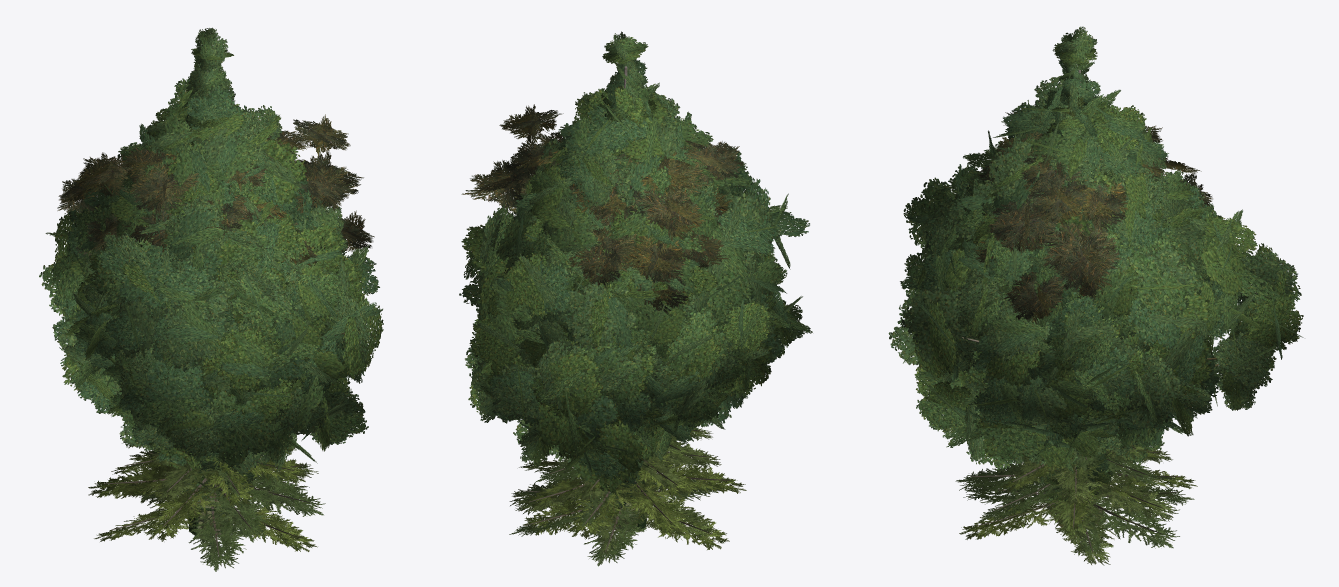
File: trees.glb
The picture shows the model from 3 angles, left to right: view 1: azimuth 30°, elevation 25°; view 2: azimuth 150°, elevation 25°; view 3: azimuth 270°, elevation 25°; orthographic projection.
Parts seen in each view (by area): view 1: tree_chene__leaves, tree_hetre__leaves, tree_sapin__leaves, tree_pin__leaves, tree_peuplier__leaves, tree_sapin__bark; view 2: tree_chene__leaves, tree_hetre__leaves, tree_pin__leaves, tree_sapin__leaves, tree_peuplier__leaves, tree_sapin__bark; view 3: tree_chene__leaves, tree_hetre__leaves, tree_sapin__leaves, tree_pin__leaves, tree_peuplier__leaves, tree_sapin__bark.
Boxes of the visible parts, x1,y1,x2,y2 form: tree_chene__leaves: [39, 141, 383, 475]; tree_hetre__leaves: [67, 78, 348, 463]; tree_sapin__leaves: [88, 95, 325, 571]; tree_pin__leaves: [57, 114, 374, 265]; tree_peuplier__leaves: [157, 27, 255, 514]; tree_sapin__bark: [104, 451, 310, 556]; tree_chene__leaves: [459, 174, 812, 491]; tree_hetre__leaves: [468, 82, 787, 451]; tree_pin__leaves: [461, 104, 744, 316]; tree_sapin__leaves: [509, 160, 746, 566]; tree_peuplier__leaves: [597, 31, 673, 507]; tree_sapin__bark: [523, 417, 730, 551]; tree_chene__leaves: [888, 162, 1303, 477]; tree_hetre__leaves: [915, 75, 1227, 459]; tree_sapin__leaves: [955, 88, 1197, 565]; tree_pin__leaves: [972, 111, 1212, 324]; tree_peuplier__leaves: [1032, 26, 1119, 504]; tree_sapin__bark: [970, 441, 1180, 552].
Bounding box in the file's own units: 16.64 × 25.85 × 21.56.
10 materials, 9 textured.
